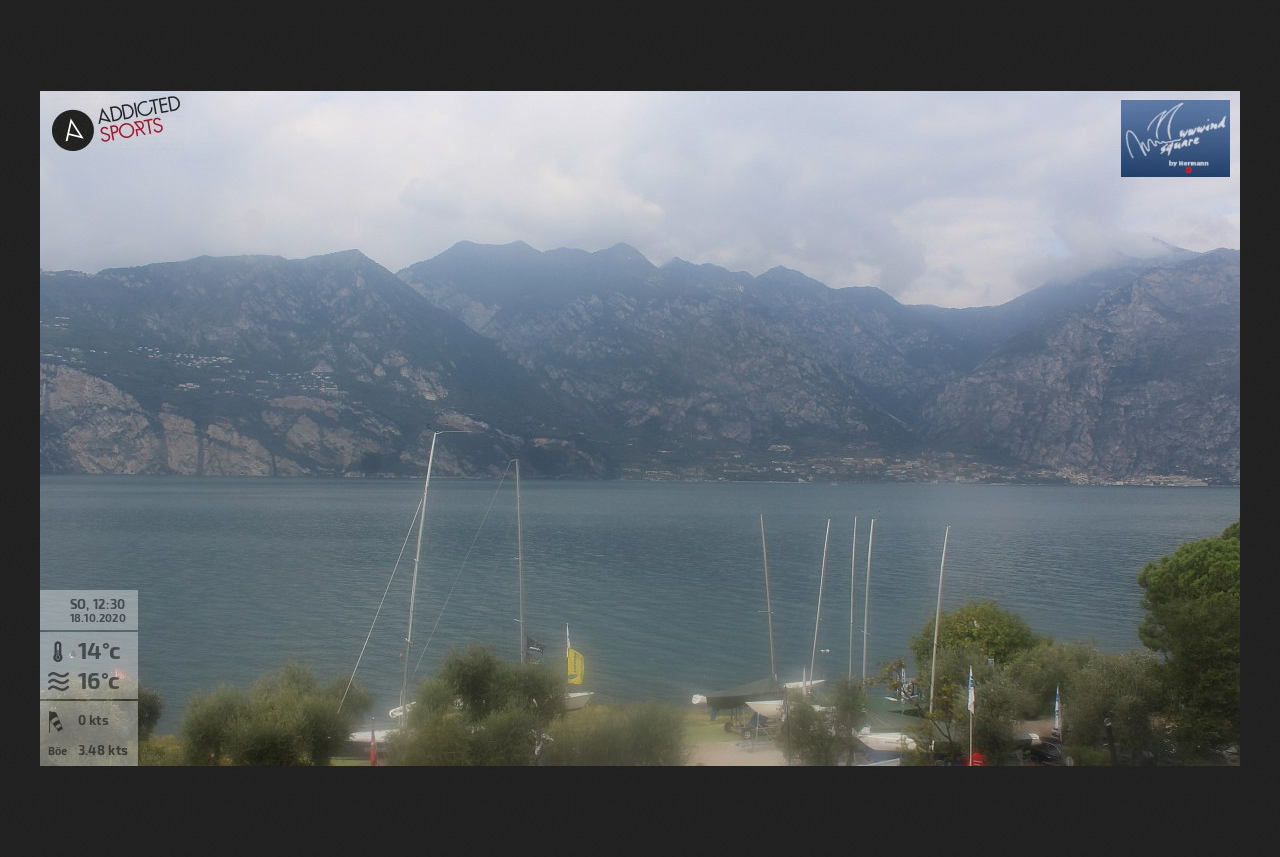no: (1052, 682, 1062, 730), (967, 671, 977, 709), (564, 623, 573, 648)
